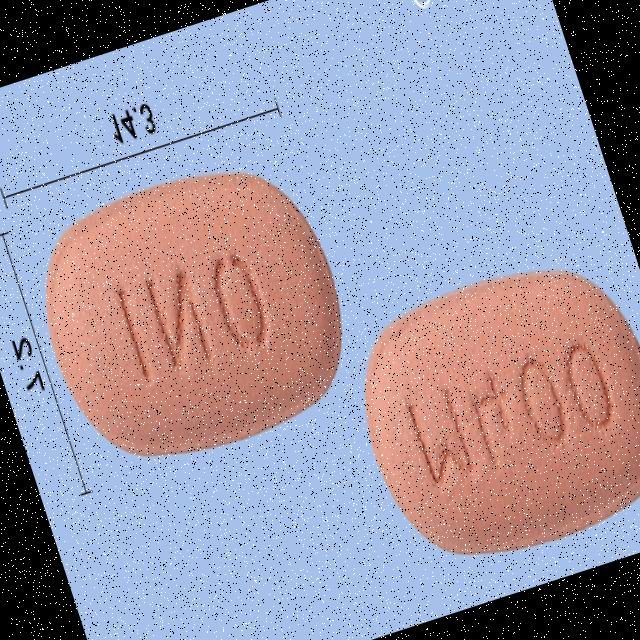Moveloxin: (17, 144, 372, 487), (335, 244, 640, 585)
